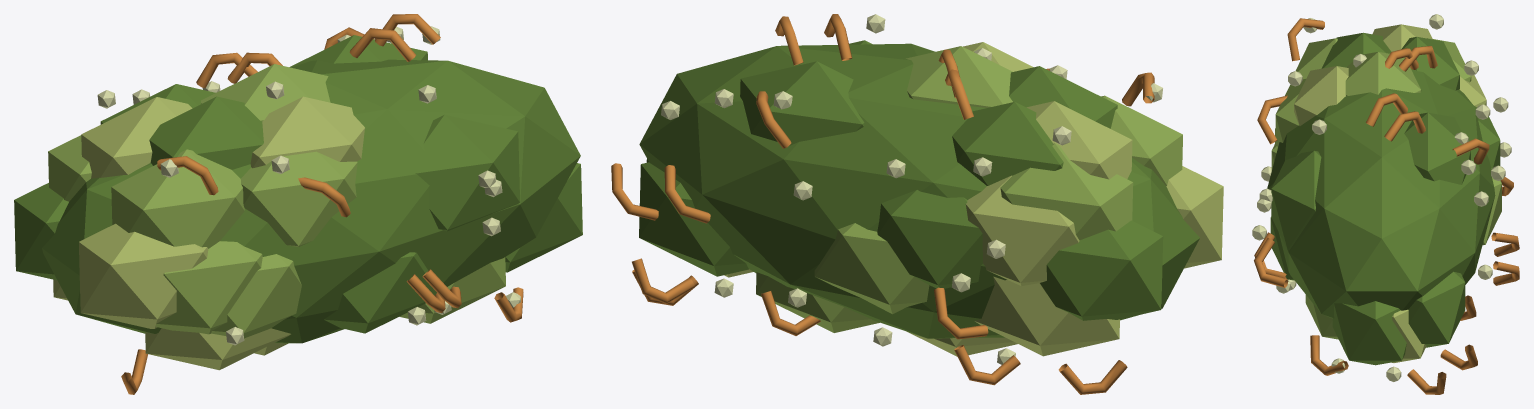
The model's file is cannabis-bud.glb.
3 views of the same model, side by side, from view 1: azimuth 30°, elevation 25°; view 2: azimuth 150°, elevation 25°; view 3: azimuth 270°, elevation 25° (orthographic). The views are drawn at different scales.
Parts seen in each view (by area): view 1: Cannabis_Bud_Projectile; view 2: Cannabis_Bud_Projectile; view 3: Cannabis_Bud_Projectile.
Part boxes in pixels (box(x1,y1,x2,y2)): Cannabis_Bud_Projectile: box(14, 14, 582, 394); Cannabis_Bud_Projectile: box(611, 14, 1223, 394); Cannabis_Bud_Projectile: box(1252, 14, 1519, 394).
Bounding box in the file's own units: 0.0708 × 0.0383 × 0.0372.
